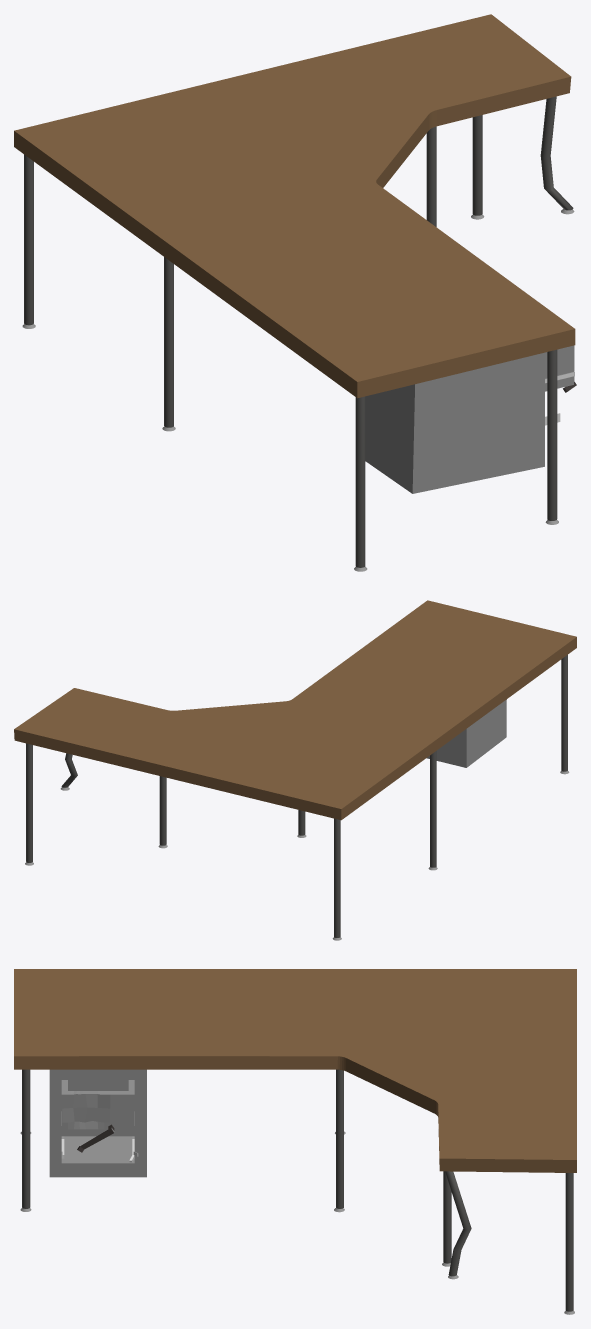
The model's file is Desk.fbx.
3 views of the same model, one above another, from view 1: azimuth 30°, elevation 25°; view 2: azimuth 150°, elevation 25°; view 3: azimuth 270°, elevation 25° (orthographic). The views are drawn at different scales.
Visible parts, largest first — view 1: DeskTop, Cube, Leg.009, Leg.008, Leg.006, Leg.005, Leg.003, Leg.004, Leg.002; view 2: DeskTop, Cube, Leg.004, Leg.005, Leg.009, Leg.006, Leg.002; view 3: DeskTop, Cube, Leg.008, Leg.004, Leg.007, Leg.003, Leg.002.
Part boxes in pixels (<box>): DeskTop: <box>14,14,575,398</box>; Cube: <box>365,345,576,493</box>; Leg.009: <box>355,396,365,567</box>; Leg.008: <box>547,349,557,520</box>; Leg.006: <box>164,257,173,427</box>; Leg.005: <box>24,154,33,325</box>; Leg.003: <box>540,96,573,210</box>; Leg.004: <box>472,115,482,215</box>; Leg.002: <box>426,126,436,226</box>; DeskTop: <box>14,600,576,820</box>; Cube: <box>426,699,506,767</box>; Leg.004: <box>26,743,32,862</box>; Leg.005: <box>334,818,340,937</box>; Leg.009: <box>561,655,567,771</box>; Leg.006: <box>430,751,436,867</box>; Leg.002: <box>159,776,166,845</box>; DeskTop: <box>14,969,576,1172</box>; Cube: <box>49,1069,146,1177</box>; Leg.008: <box>22,1069,30,1208</box>; Leg.004: <box>565,1173,573,1311</box>; Leg.007: <box>336,1069,343,1208</box>; Leg.003: <box>445,1171,471,1276</box>; Leg.002: <box>443,1171,451,1263</box>.
Size of the model in its own units: 148 by 56.89 by 182.
